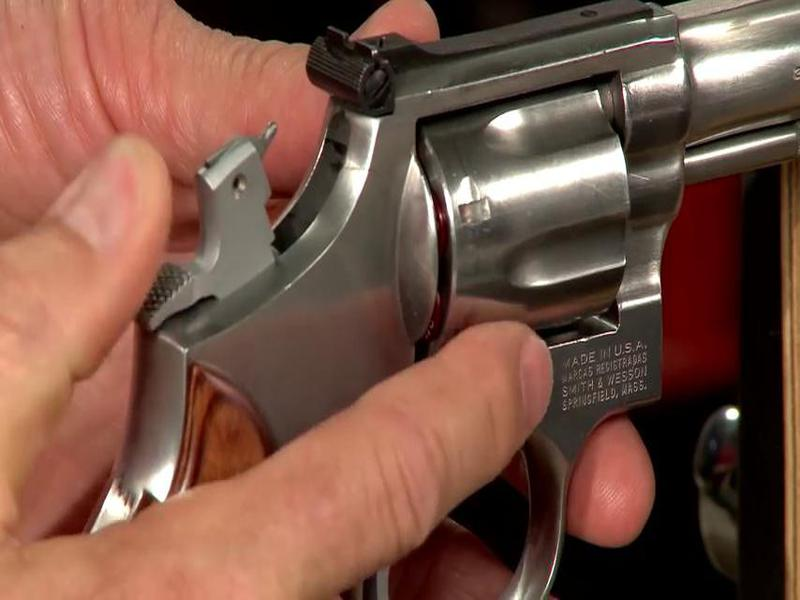Revolver: (147, 3, 800, 536)
